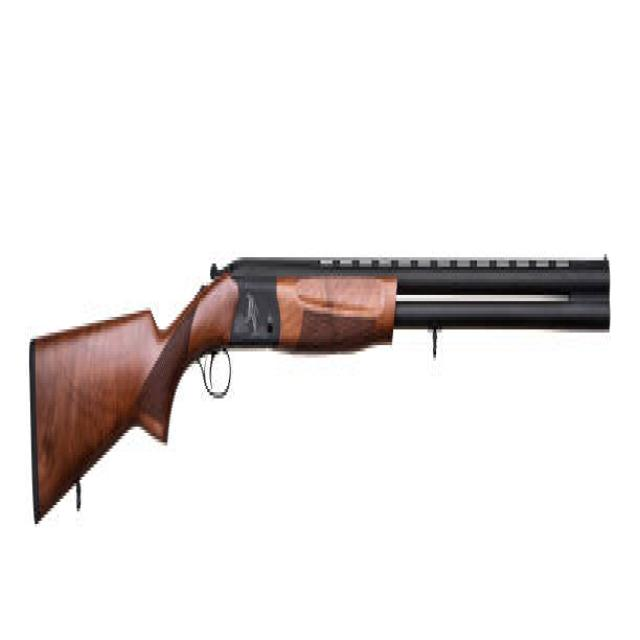rifle: (26, 238, 612, 536)
